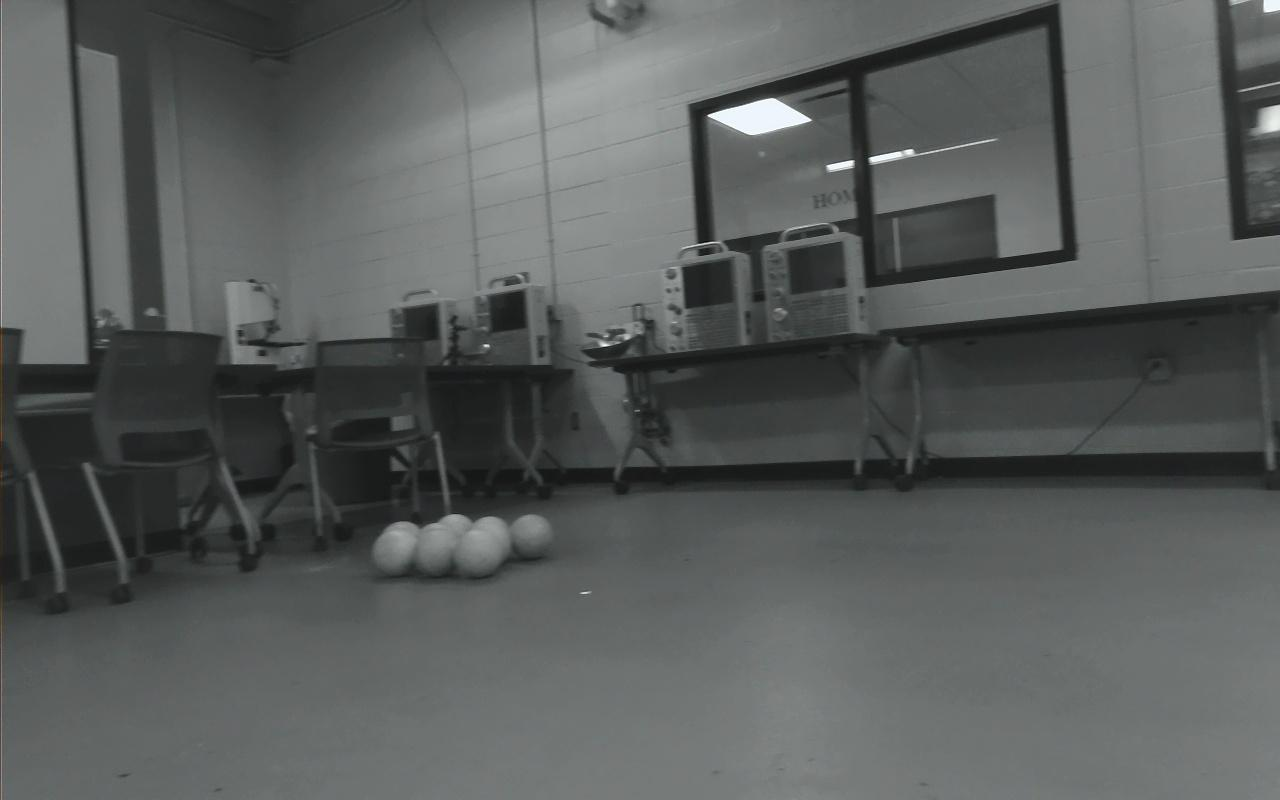Fuel: (452, 528, 504, 578), (371, 529, 417, 578), (412, 529, 458, 578), (509, 513, 554, 559), (470, 518, 513, 565), (381, 520, 423, 558), (416, 522, 455, 558), (474, 515, 511, 550), (438, 513, 474, 546)
